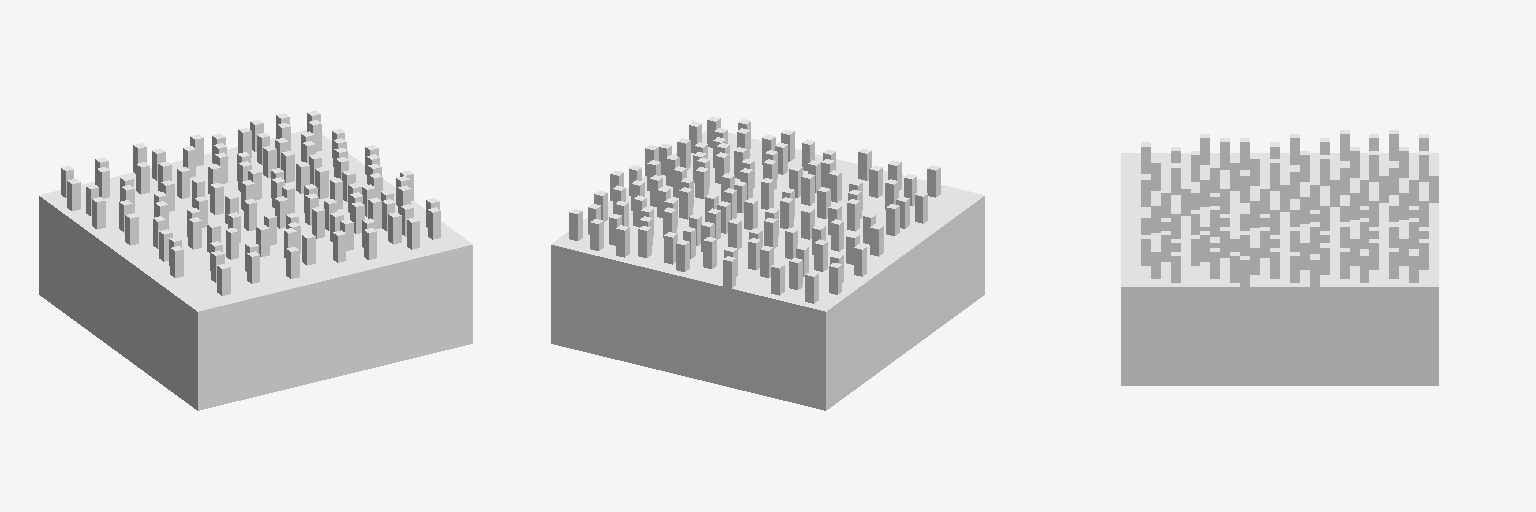
File: Fields.obj
The picture shows the model from 3 angles: view 1: azimuth 30°, elevation 25°; view 2: azimuth 150°, elevation 25°; view 3: azimuth 270°, elevation 25°; orthographic projection.
Visible parts, largest first — view 1: object 1; view 2: object 1; view 3: object 1.
Boxes of the visible parts, box(x1,y1,x2,y2) form: object 1: box(39, 110, 472, 410); object 1: box(551, 116, 984, 410); object 1: box(1121, 130, 1438, 385).
Bounding box in the file's own units: 3.2 × 1.4 × 3.2.